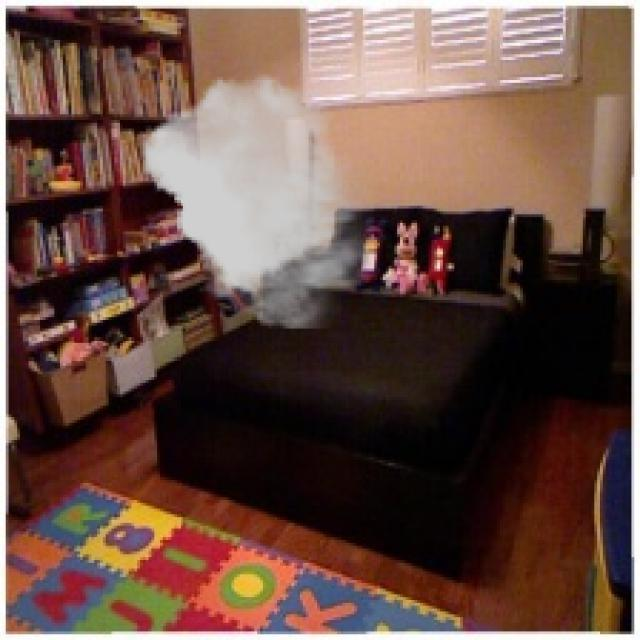Smoke: (143, 74, 374, 329)
